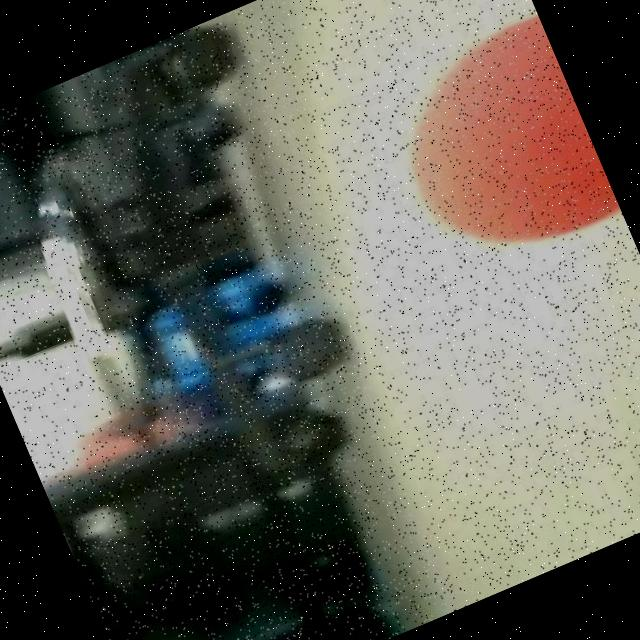ping-pong-ball: (364, 9, 626, 294)
